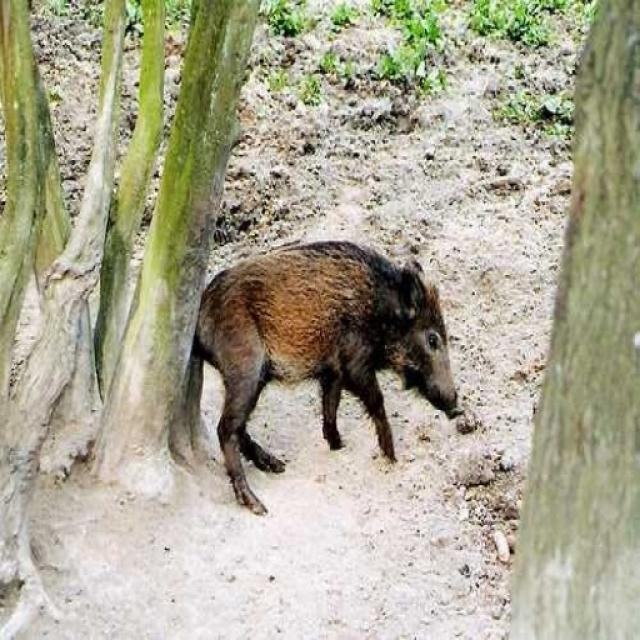pig: (192, 230, 524, 491)
